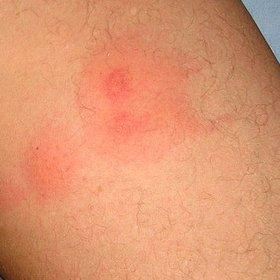Fleas: (75, 50, 160, 139), (21, 135, 71, 192)
